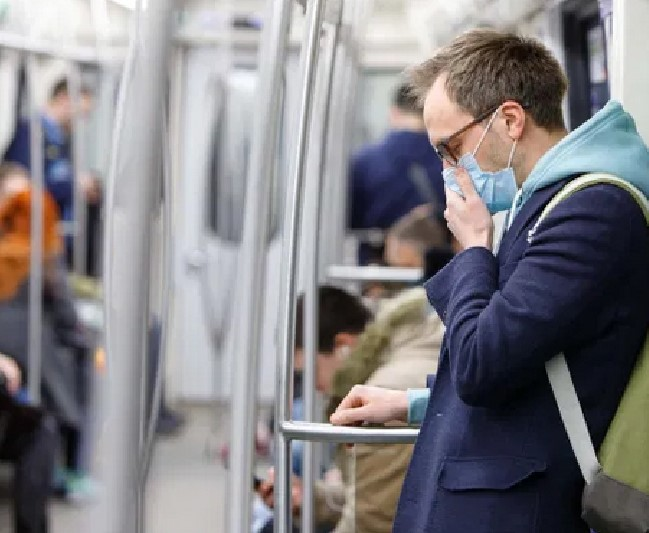face_with_mask: (416, 35, 567, 220)
